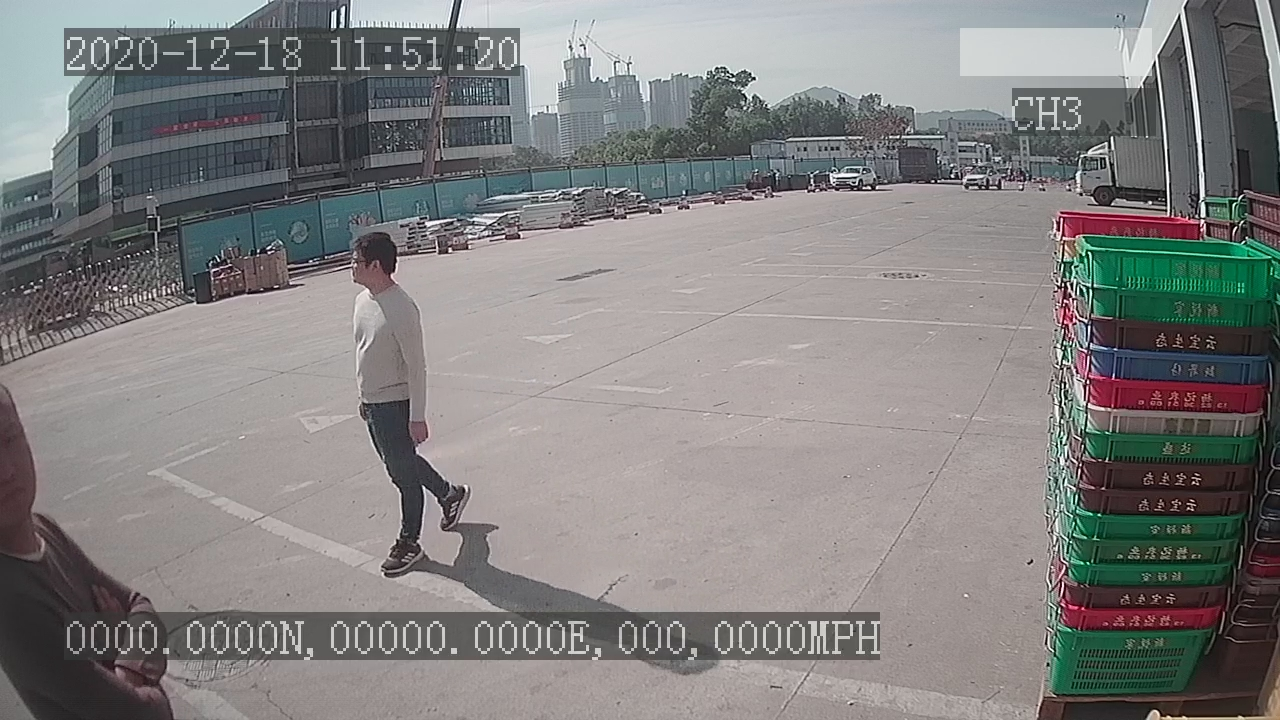person: (342, 227, 479, 579)
